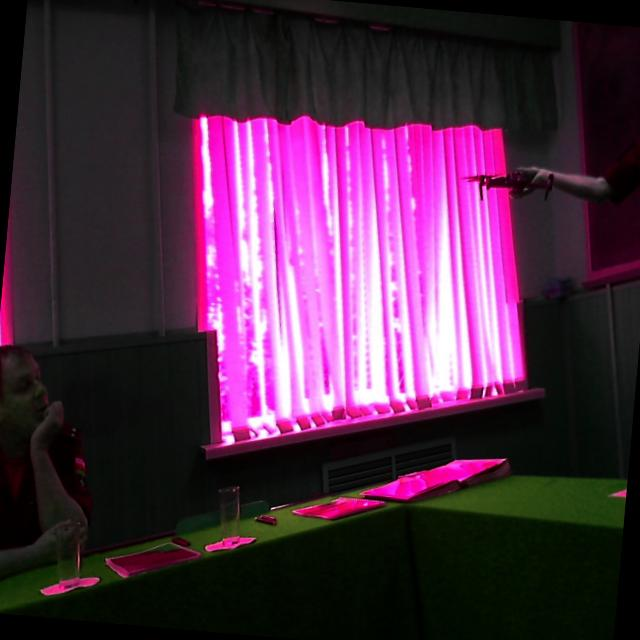drone: (456, 146, 578, 214)
